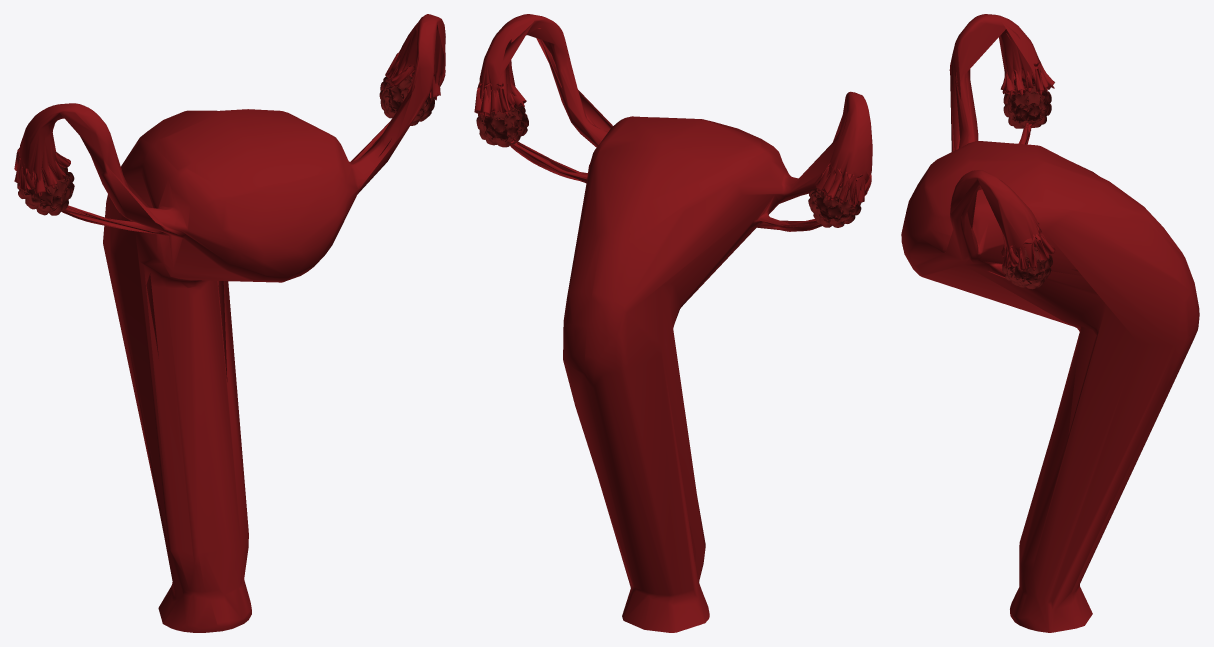
The model's file is meshuteroenteroreducido.obj.
3 renders of one model, left to right at view 1: azimuth 30°, elevation 25°; view 2: azimuth 150°, elevation 25°; view 3: azimuth 270°, elevation 25°, orthographic. The views are drawn at different scales.
Parts seen in each view (by area): view 1: Uterus-Whole.001; view 2: Uterus-Whole.001; view 3: Uterus-Whole.001.
Boxes of the visible parts, left/top/right/bottom form: Uterus-Whole.001: left=14, top=14, right=445, bottom=632; Uterus-Whole.001: left=474, top=14, right=872, bottom=632; Uterus-Whole.001: left=901, top=14, right=1199, bottom=632.
Size of the model in its own units: 4.39 by 5.79 by 2.98.
